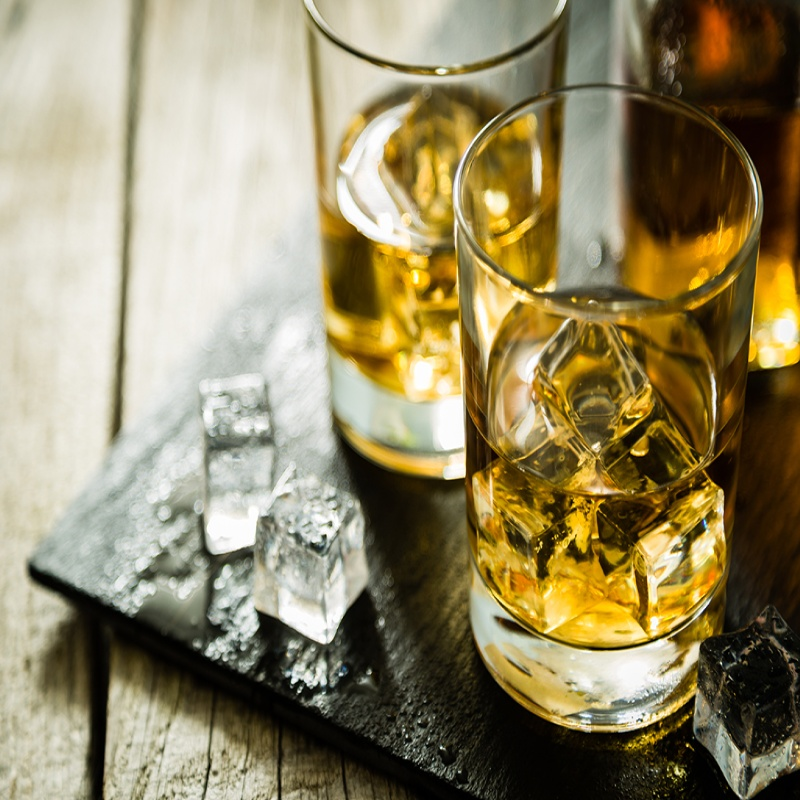whiskey: (458, 75, 753, 735), (319, 1, 463, 458)
